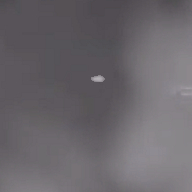Target: (91, 75, 105, 82)
